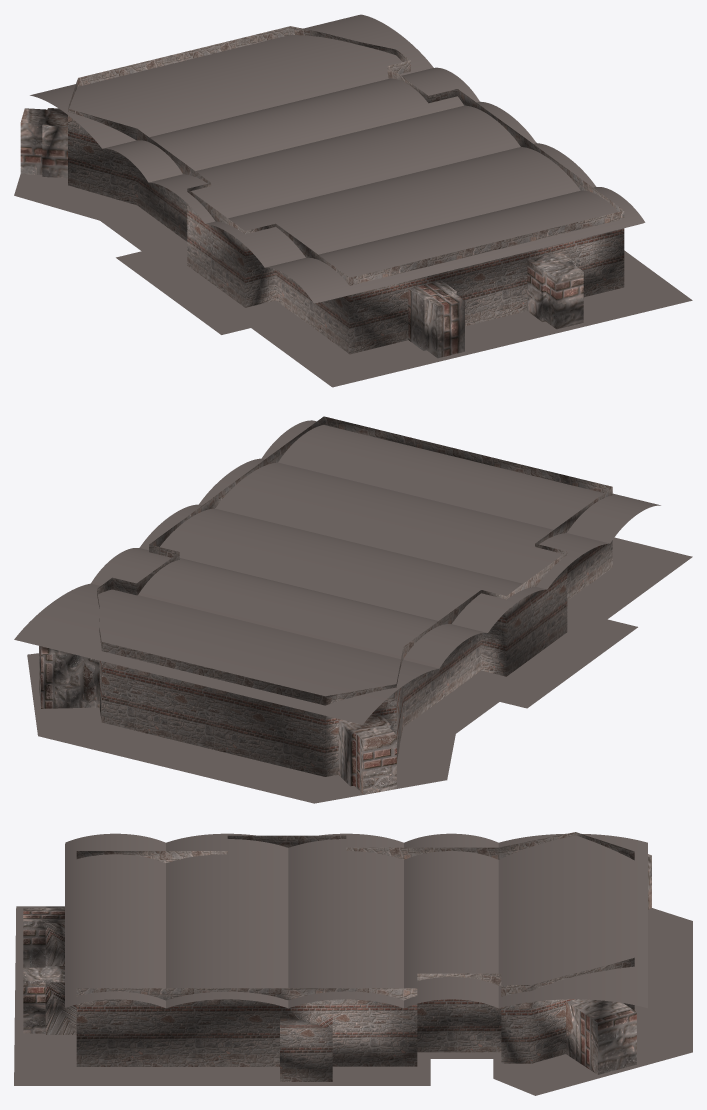
Rendered from Vojta.fbx.
3 views of the same model, one above another, from view 1: azimuth 30°, elevation 25°; view 2: azimuth 150°, elevation 25°; view 3: azimuth 270°, elevation 25° (orthographic). The views are drawn at different scales.
Visible parts, largest first — view 1: Klenby-strop, Jednostěna.019, Podlaha-místnosti č.2; view 2: Klenby-strop, Jednostěna.019, Podlaha-místnosti č.2; view 3: Klenby-strop, Jednostěna.019, Podlaha-místnosti č.2.
Part boxes in pixels (x1,y1,x2,y2): Klenby-strop: [30, 14, 645, 303]; Jednostěna.019: [20, 26, 624, 358]; Podlaha-místnosti č.2: [14, 174, 692, 387]; Klenby-strop: [14, 420, 660, 724]; Jednostěna.019: [39, 416, 612, 794]; Podlaha-místnosti č.2: [27, 537, 692, 803]; Klenby-strop: [65, 833, 647, 1008]; Jednostěna.019: [23, 832, 651, 1081]; Podlaha-místnosti č.2: [14, 906, 692, 1095].
Size of the model in its own units: 1725 by 300 by 2348.
